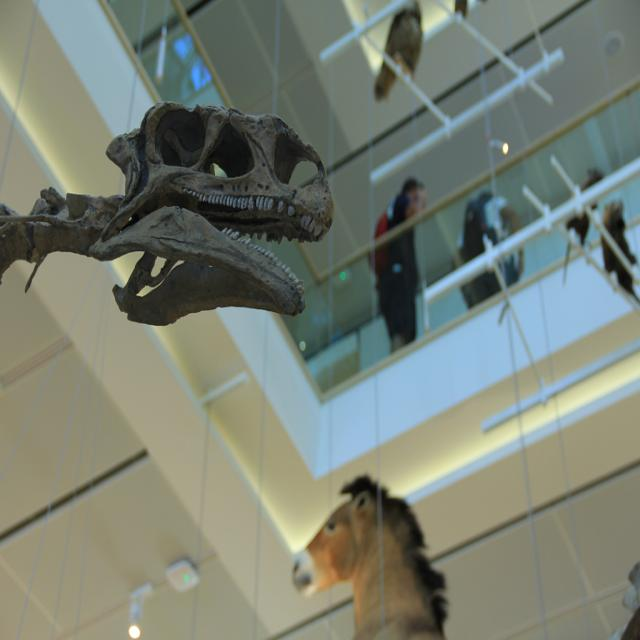Horse: (291, 476, 449, 639)
